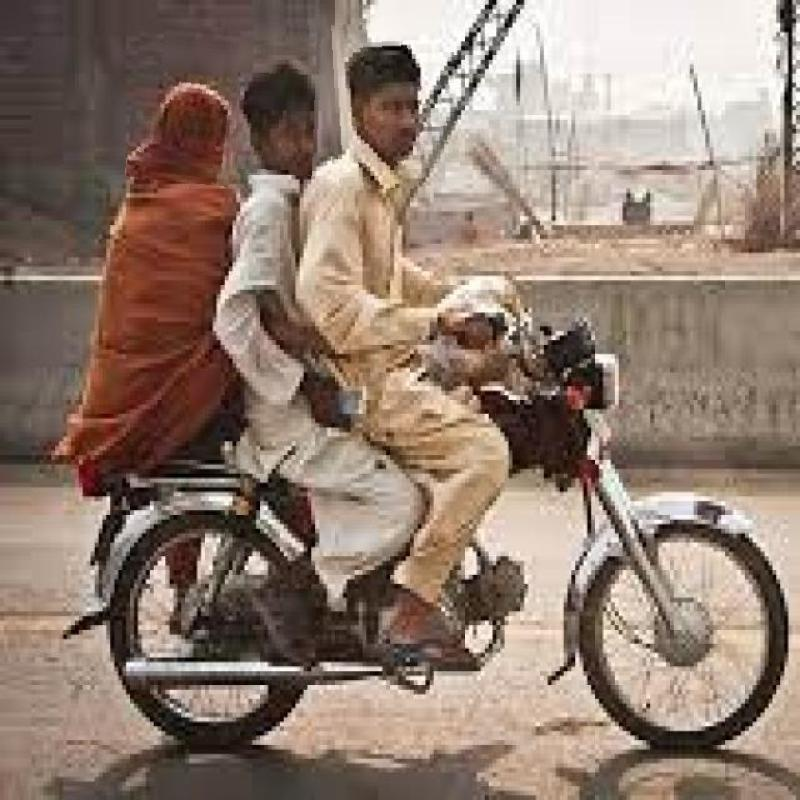nohelmet: (327, 21, 458, 190), (129, 22, 241, 184), (237, 24, 329, 176)
